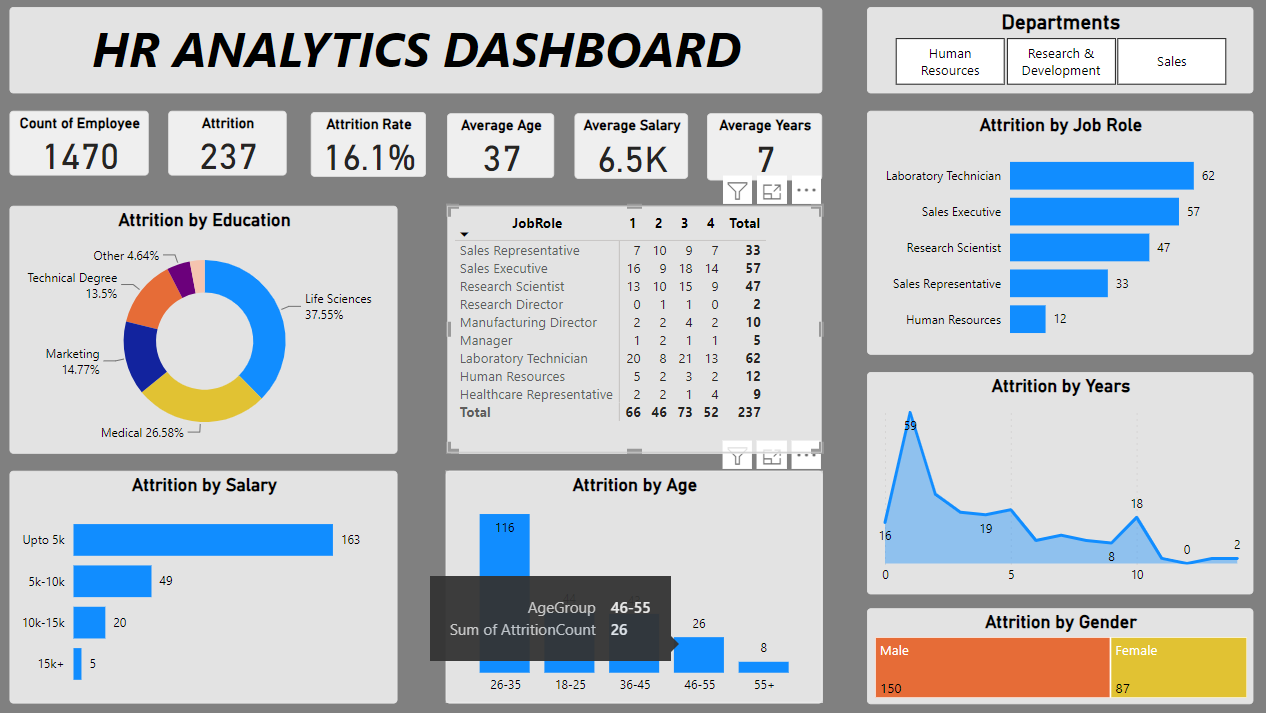

The dashboard page shown, as its layout file describes it:
{"tool":"powerbi","page":{"name":"Page 1","canvas":[1280,720],"ordinal":0},"visuals":[{"type":"card","title":"Count of Employee","fields":{"Values":["CountNonNull(HR_Analytics.EmpID)"]},"box":[17,113.8,139.4,64.9],"z":0},{"type":"card","title":"Attrition","fields":{"Values":["Sum(HR_Analytics.AttritionCount)"]},"box":[176.6,113.8,118.1,64.9],"z":1000},{"type":"card","title":"Attrition Rate","fields":{"Values":["HR_Analytics.AttritionRate"]},"box":[319.1,114.9,114.9,64.9],"z":2000},{"type":"card","title":"Average Age ","fields":{"Values":["Avg(HR_Analytics.Age)"]},"box":[455.3,116,107.4,64.9],"z":3000},{"type":"card","title":"Average Salary","fields":{"Values":["Avg(HR_Analytics.MonthlyIncome)"]},"box":[583,116,113.8,66],"z":4000},{"type":"card","title":"Average Years ","fields":{"Values":["Avg(HR_Analytics.YearsAtCompany)"]},"box":[714.9,116,114.9,67],"z":5000},{"type":"donutChart","title":"Attrition by Education","fields":{"Category":["HR_Analytics.EducationField"],"Y":["Sum(HR_Analytics.AttritionCount)"]},"box":[17,208.5,388.3,247.9],"z":6000},{"type":"columnChart","title":"Attrition by Age","fields":{"Category":["HR_Analytics.AgeGroup"],"Y":["Sum(HR_Analytics.AttritionCount)"]},"box":[453.2,473.4,376.6,233],"z":7000},{"type":"pivotTable","fields":{"Rows":["HR_Analytics.JobRole"],"Columns":["HR_Analytics.JobSatisfaction"],"Values":["Sum(HR_Analytics.AttritionCount)"]},"box":[455.3,208.5,374.5,247.9],"z":8000},{"type":"barChart","title":"Attrition by Salary","fields":{"Category":["HR_Analytics.SalarySlab"],"Y":["Sum(HR_Analytics.AttritionCount)"]},"box":[17,473.4,388.3,233],"z":9000},{"type":"barChart","title":"Attrition by Job Role","fields":{"Category":["HR_Analytics.JobRole"],"Y":["Sum(HR_Analytics.AttritionCount)"]},"box":[875.5,113.8,386.2,243.6],"z":10000},{"type":"areaChart","title":"Attrition by Years","fields":{"Category":["HR_Analytics.YearsAtCompany"],"Y":["Sum(HR_Analytics.AttritionCount)"]},"box":[875,375,386.2,222.5],"z":11000},{"type":"treemap","title":"Attrition by Gender","fields":{"Group":["HR_Analytics.Gender"],"Values":["Sum(HR_Analytics.AttritionCount)"]},"box":[875.5,610.6,386.2,95.7],"z":12000},{"type":"slicer","title":"Departments","fields":{"Values":["HR_Analytics.Department"]},"box":[875.5,9.6,386.2,86.2],"z":13000},{"type":"textbox","box":[17,9.6,812.8,86.2],"z":14000}]}

Visuals, with their boxes in screenshot pixels (x1, y1, x2, y2), scaled from the page's 1280x720 canvas onto the 1266x713 screenshot:
"Count of Employee" card: [left=17, top=113, right=155, bottom=177]
"Attrition" card: [left=175, top=113, right=291, bottom=177]
"Attrition Rate" card: [left=316, top=114, right=429, bottom=178]
"Average Age " card: [left=450, top=115, right=557, bottom=179]
"Average Salary" card: [left=577, top=115, right=689, bottom=180]
"Average Years " card: [left=707, top=115, right=821, bottom=181]
"Attrition by Education" donutChart: [left=17, top=206, right=401, bottom=452]
"Attrition by Age" columnChart: [left=448, top=469, right=821, bottom=700]
pivotTable - HR_Analytics.JobRole x HR_Analytics.JobSatisfaction: [left=450, top=206, right=821, bottom=452]
"Attrition by Salary" barChart: [left=17, top=469, right=401, bottom=700]
"Attrition by Job Role" barChart: [left=866, top=113, right=1248, bottom=354]
"Attrition by Years" areaChart: [left=865, top=371, right=1247, bottom=592]
"Attrition by Gender" treemap: [left=866, top=605, right=1248, bottom=699]
"Departments" slicer: [left=866, top=10, right=1248, bottom=95]
textbox: [left=17, top=10, right=821, bottom=95]
